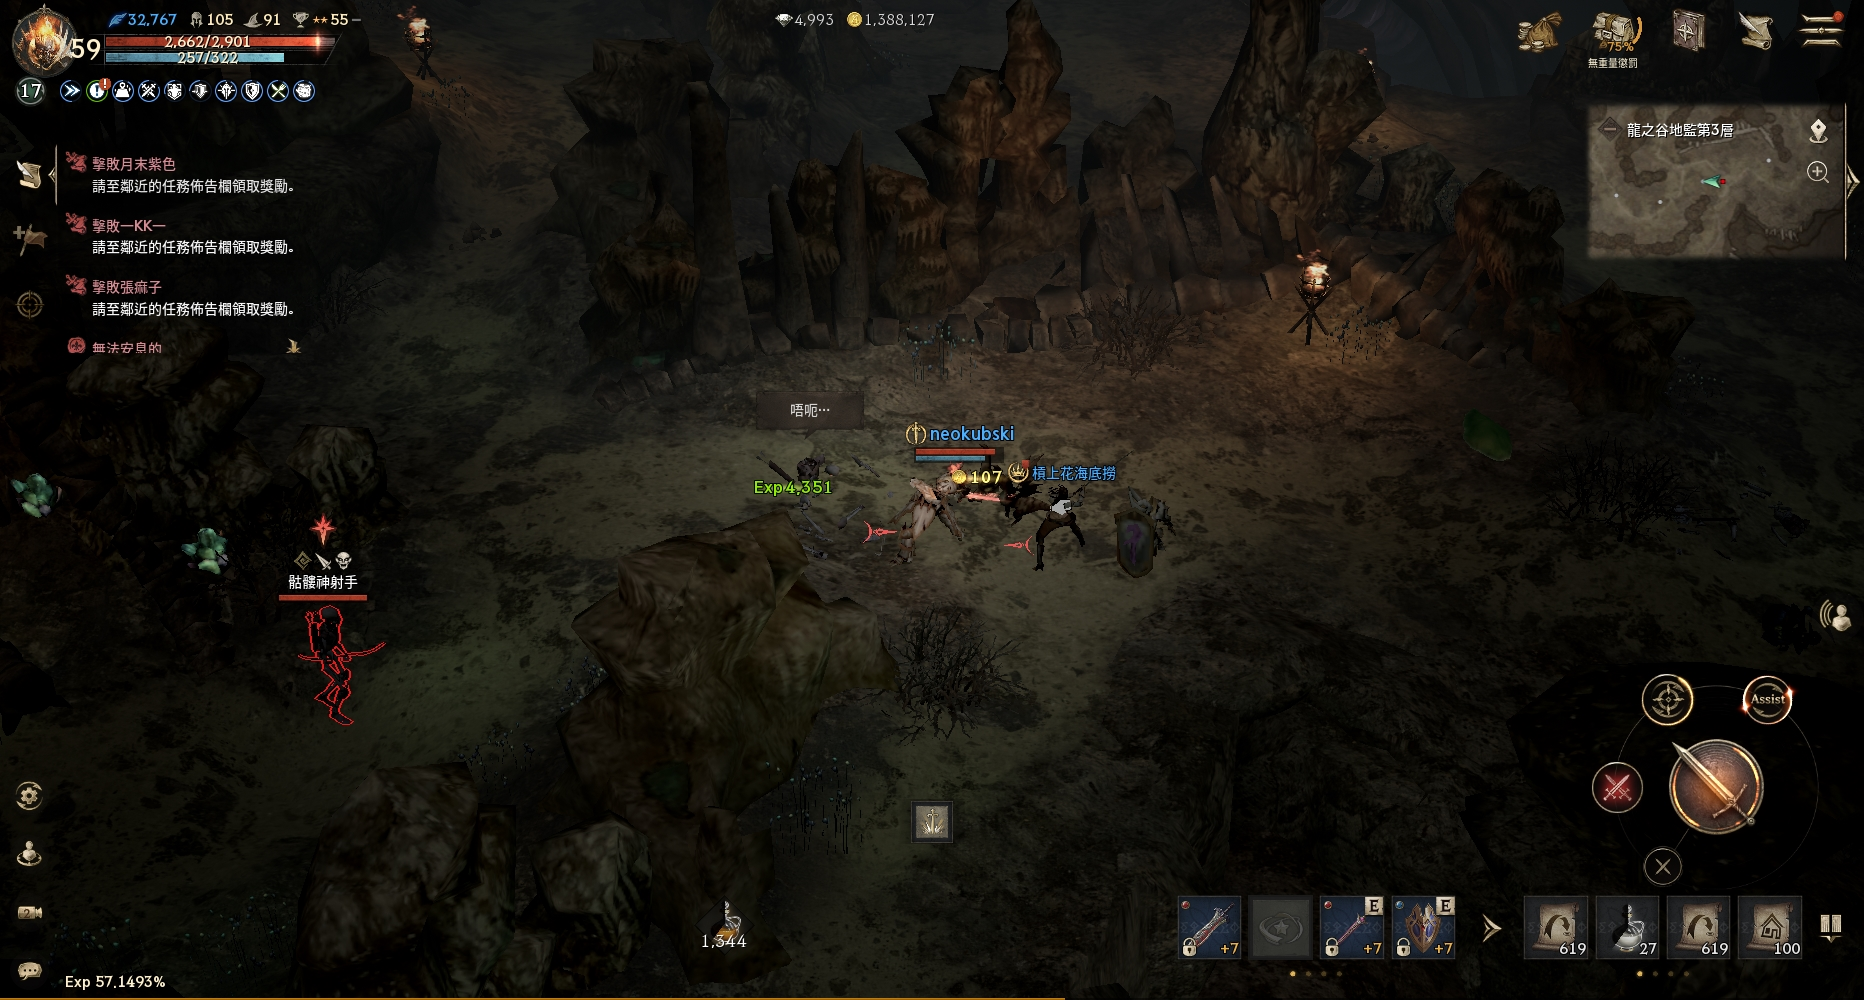enemy: (1006, 457, 1032, 485)
